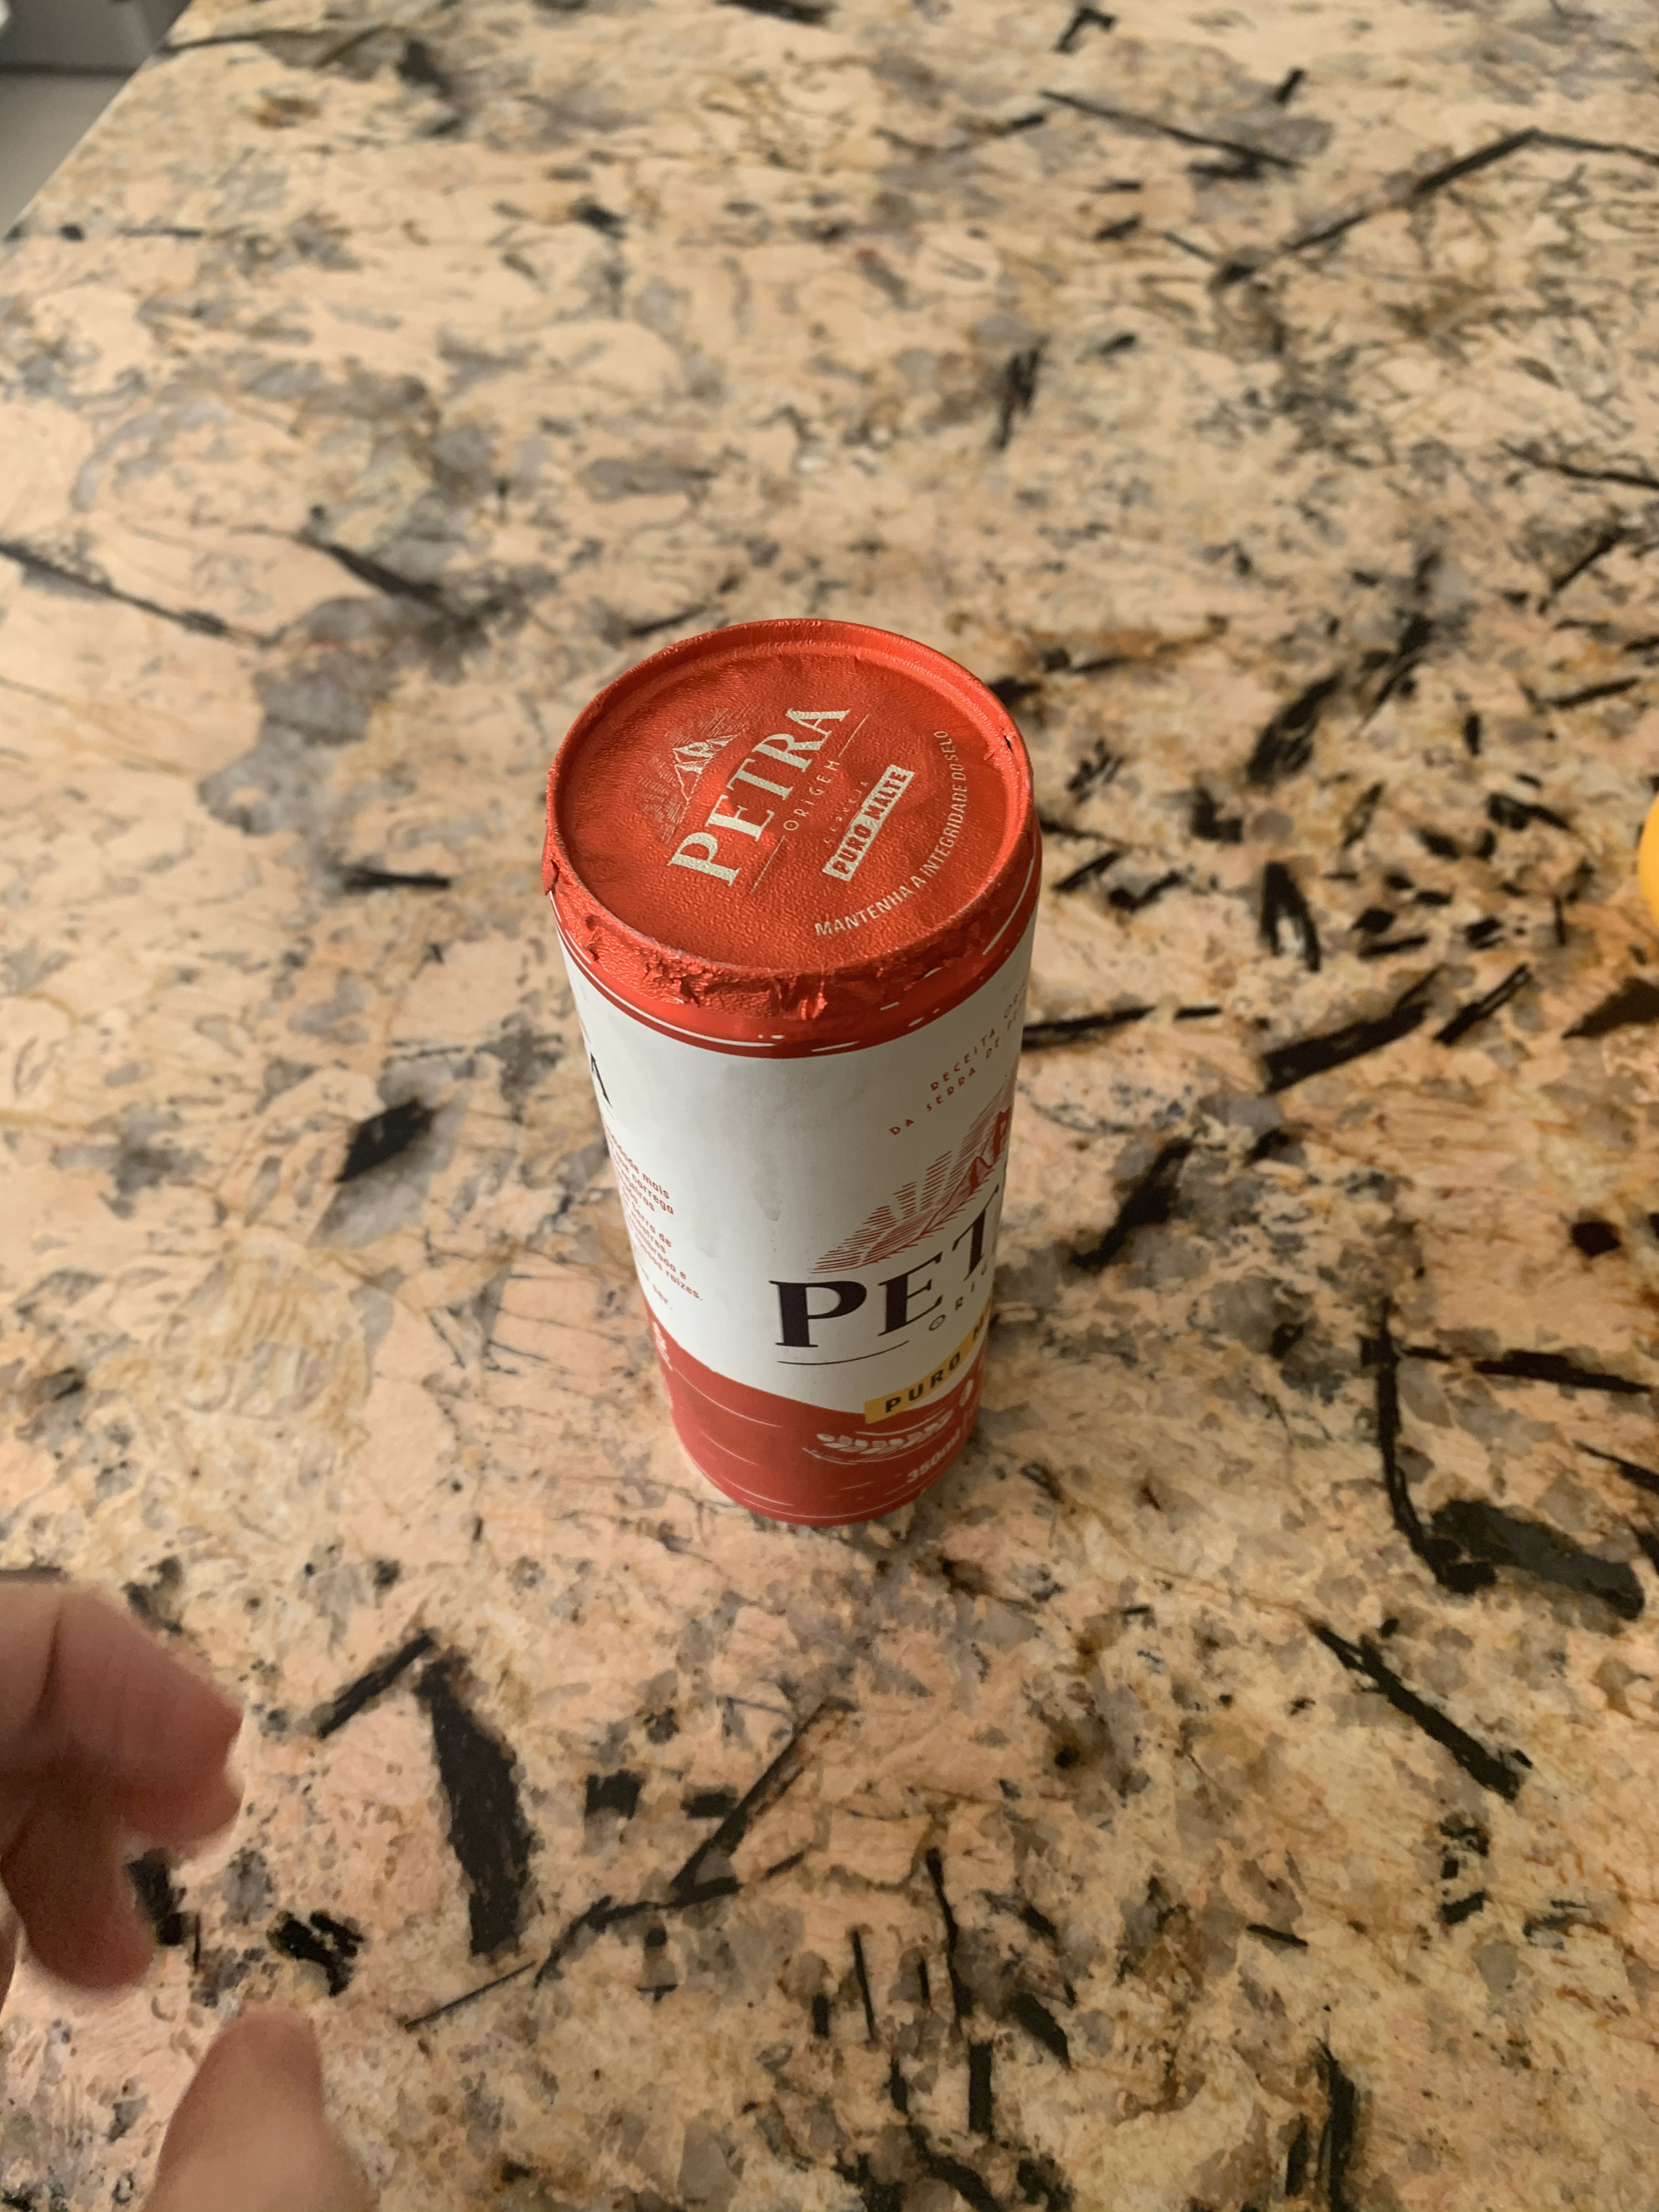petra: (490, 603, 1108, 1588)
